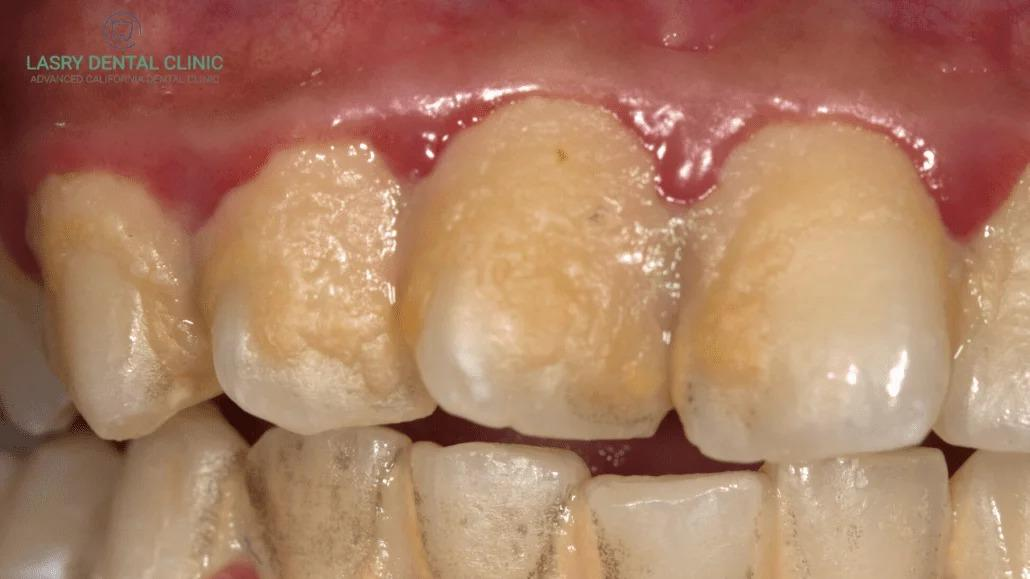Plaque: (404, 93, 679, 403), (687, 126, 960, 391), (214, 133, 427, 390), (27, 164, 199, 367)
